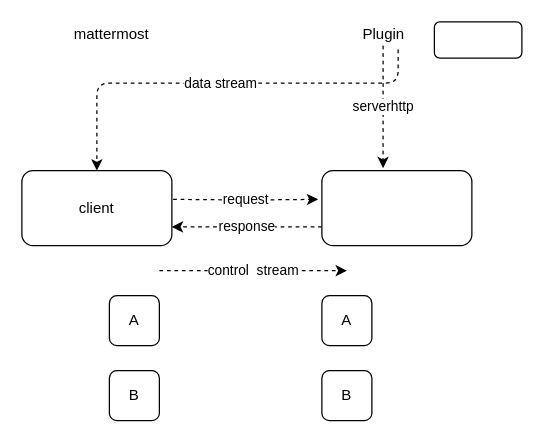
The diagram is 544 pixels wide and 443 high, and some of its shapes have lost their labels. Here are the shapes that lost their labels. From the top down, the box of each, then its label:
(433, 21, 522, 58): custom
(321, 169, 472, 246): server
